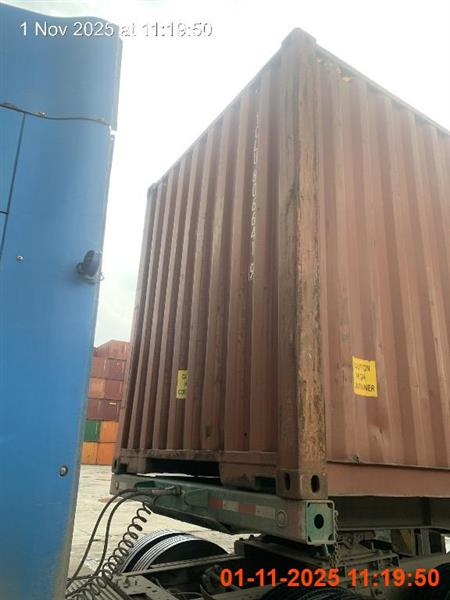broken: (108, 29, 449, 565)
